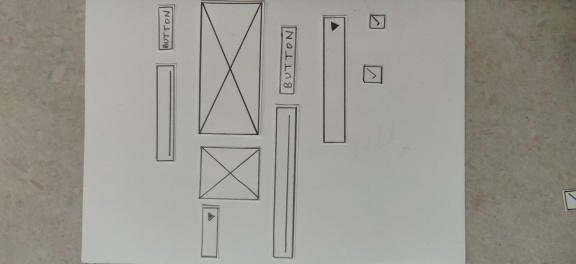button: (277, 24, 298, 96), (156, 3, 175, 52)
checkbox: (361, 63, 384, 86), (368, 13, 386, 30)
dropdown: (320, 12, 348, 146), (198, 203, 222, 260)
img: (197, 1, 261, 137), (197, 144, 262, 201)
text: (272, 104, 297, 260), (154, 63, 177, 163)
